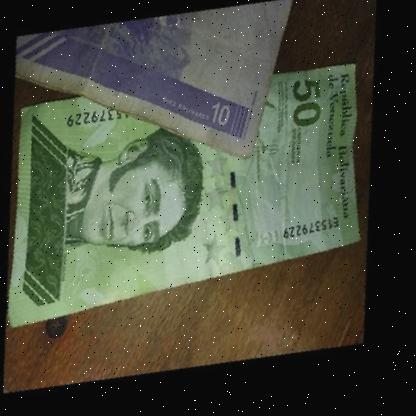fifty-front-vef: (0, 26, 403, 374)
